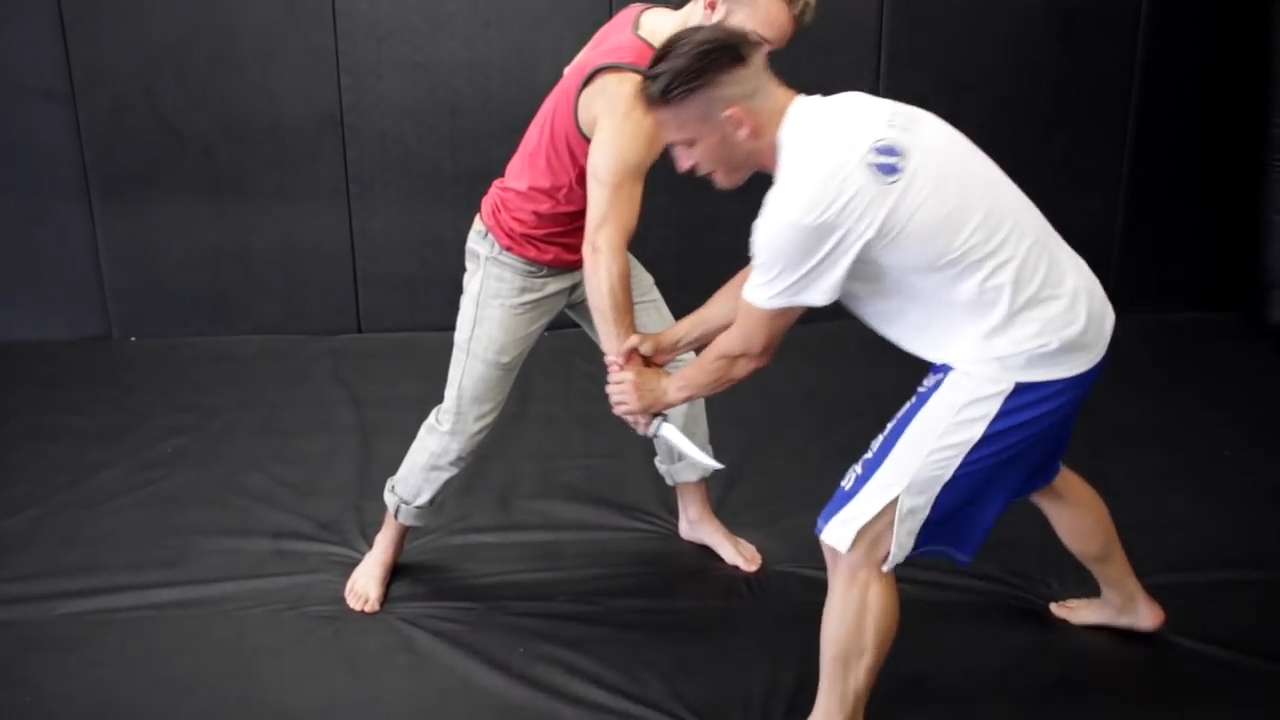knife: (602, 392, 734, 478)
